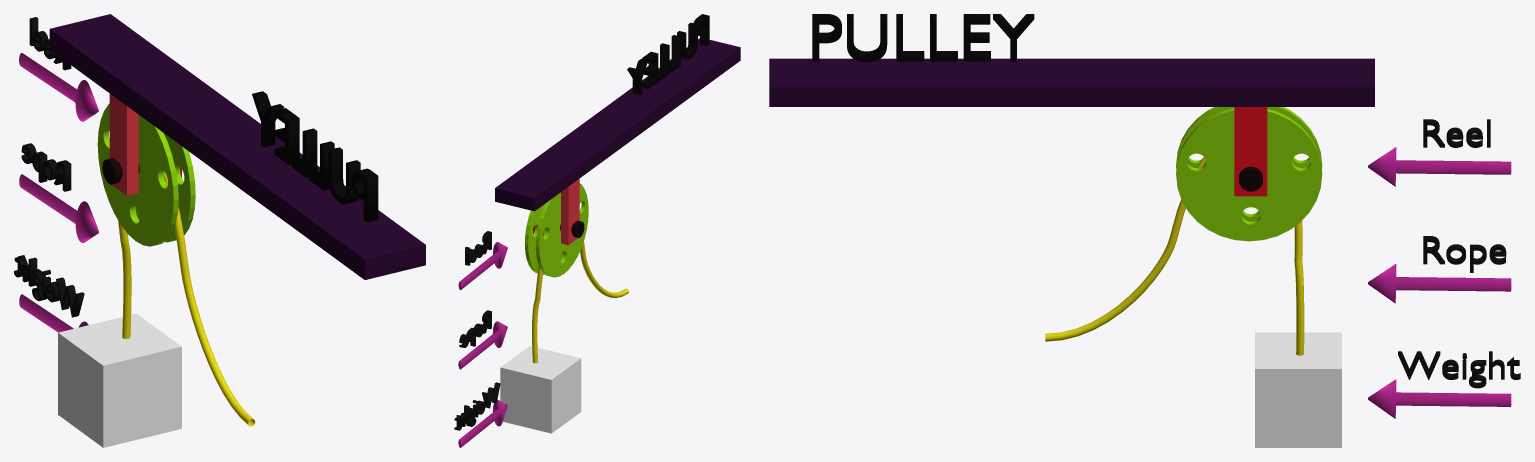
The model's file is pully.gltf.
The picture shows the model from 3 angles, left to right: view 1: azimuth 30°, elevation 25°; view 2: azimuth 150°, elevation 25°; view 3: azimuth 270°, elevation 25°; orthographic projection. The views are drawn at different scales.
Parts seen in each view (by area): view 1: Cube, Cube.003, Cylinder M, Text.003, BezierCurve, Cube.001, Text, Cylinder.002, Cylinder.001, Text.001, Cylinder.008, Text.002 (+1 smaller); view 2: Cube, Cube.003, Cylinder M, Text.003, BezierCurve, Cube.001, Text, Cylinder.001, Cylinder.002, Cylinder.008, Text.001, Text.002; view 3: Cube, Cylinder M, Cube.003, Text.003, BezierCurve, Cube.002, Cylinder.008, Cylinder.001, Cylinder.002, Text, Text.001, Text.002.
Boxes of the visible parts, x1,y1,x2,y2 form: Cube: (49, 14, 425, 279); Cube.003: (58, 313, 181, 447); Cylinder M: (97, 103, 195, 246); Text.003: (252, 91, 378, 222); BezierCurve: (118, 171, 255, 426); Cube.001: (109, 94, 138, 195); Text: (14, 255, 84, 317); Cylinder.002: (19, 53, 98, 121); Cylinder.001: (19, 174, 98, 242); Text.001: (21, 143, 71, 191); Cylinder.008: (19, 294, 88, 332); Text.002: (29, 17, 71, 70); Cube: (495, 38, 740, 211); Cube.003: (500, 346, 581, 433); Cylinder M: (524, 183, 588, 277); Text.003: (627, 14, 709, 95); BezierCurve: (532, 229, 628, 363); Cube.001: (561, 179, 579, 245); Text: (454, 382, 500, 430); Cylinder.001: (458, 321, 507, 369); Cylinder.002: (458, 242, 507, 290); Cylinder.008: (458, 399, 507, 447); Text.001: (459, 310, 491, 347); Text.002: (465, 231, 491, 265); Cube: (769, 58, 1374, 106); Cylinder M: (1176, 107, 1322, 241); Cube.003: (1255, 332, 1341, 447); Text.003: (812, 14, 1034, 62); BezierCurve: (1045, 157, 1304, 355); Cube.002: (1234, 107, 1267, 196); Cylinder.008: (1368, 379, 1511, 418); Cylinder.001: (1368, 264, 1511, 303); Cylinder.002: (1368, 147, 1511, 186); Text: (1398, 351, 1520, 388); Text.001: (1423, 236, 1506, 272); Text.002: (1423, 119, 1490, 147).
Size of the model in its own units: 0.4859 by 2.54 by 4.19.
